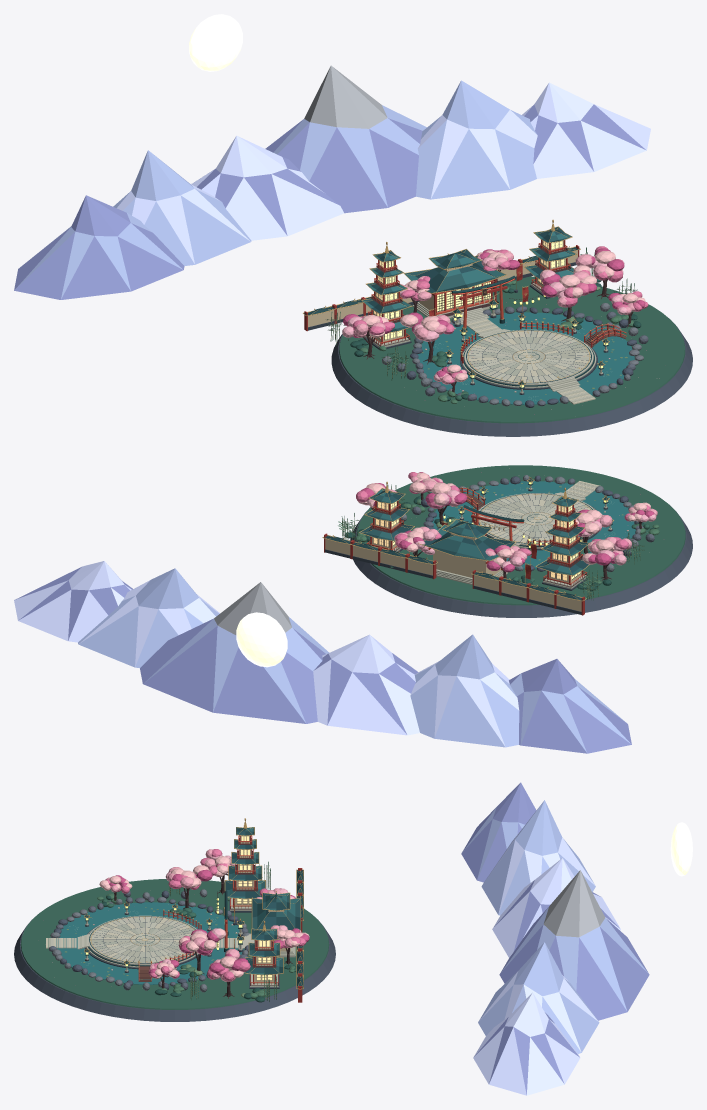
Rendered from sakura-sanctuary.glb.
3 views of the same model, one above another, from view 1: azimuth 30°, elevation 25°; view 2: azimuth 150°, elevation 25°; view 3: azimuth 270°, elevation 25° (orthographic). The views are drawn at different scales.
Visible parts, largest first — view 1: Horizon | faceted mountain silhouettes, Garden island | faceted foundation, Arena | cut limestone, concentric inlays and crest, Jade reflecting pool, Honden | illuminated temple hall, Garden banks | moss and river stones, Pagoda | 5 tiers, Moon | dusk pearl, Courtyard walls | plaster and tile, Pagoda | 3 tiers, Sakura | sculpted canopy 2, Sakura | sculpted canopy 1 (+8 smaller); view 2: Horizon | faceted mountain silhouettes, Garden island | faceted foundation, Courtyard walls | plaster and tile, Honden | illuminated temple hall, Arena | cut limestone, concentric inlays and crest, Jade reflecting pool, Pagoda | 5 tiers, Garden banks | moss and river stones, Moon | dusk pearl, Pagoda | 3 tiers, Sakura | sculpted canopy 2, Sakura | sculpted canopy 3 (+6 smaller); view 3: Horizon | faceted mountain silhouettes, Garden island | faceted foundation, Jade reflecting pool, Arena | cut limestone, concentric inlays and crest, Garden banks | moss and river stones, Pagoda | 5 tiers, Honden | illuminated temple hall, Pagoda | 3 tiers, Sakura | sculpted canopy 4, Sakura | sculpted canopy 2, Moon | dusk pearl, Sakura | sculpted canopy 1 (+6 smaller).
Boxes of the visible parts, bbox=[...] form: Horizon | faceted mountain silhouettes: bbox=[14, 65, 650, 299]; Garden island | faceted foundation: bbox=[331, 276, 692, 436]; Arena | cut limestone, concentric inlays and crest: bbox=[460, 329, 597, 389]; Jade reflecting pool: bbox=[417, 312, 634, 404]; Honden | illuminated temple hall: bbox=[404, 249, 506, 324]; Garden banks | moss and river stones: bbox=[350, 276, 643, 407]; Pagoda | 5 tiers: bbox=[360, 242, 412, 350]; Moon | dusk pearl: bbox=[189, 14, 242, 71]; Courtyard walls | plaster and tile: bbox=[303, 245, 580, 331]; Pagoda | 3 tiers: bbox=[524, 219, 576, 298]; Sakura | sculpted canopy 2: bbox=[540, 265, 596, 321]; Sakura | sculpted canopy 1: bbox=[400, 312, 454, 364]; Horizon | faceted mountain silhouettes: bbox=[14, 561, 631, 753]; Garden island | faceted foundation: bbox=[350, 465, 692, 617]; Courtyard walls | plaster and tile: bbox=[322, 533, 586, 615]; Honden | illuminated temple hall: bbox=[418, 518, 515, 584]; Arena | cut limestone, concentric inlays and crest: bbox=[471, 493, 598, 550]; Jade reflecting pool: bbox=[432, 481, 635, 568]; Pagoda | 5 tiers: bbox=[535, 487, 589, 590]; Garden banks | moss and river stones: bbox=[344, 475, 659, 591]; Moon | dusk pearl: bbox=[236, 612, 287, 667]; Pagoda | 3 tiers: bbox=[359, 481, 414, 552]; Sakura | sculpted canopy 2: bbox=[410, 479, 467, 528]; Sakura | sculpted canopy 3: bbox=[582, 537, 631, 580]; Horizon | faceted mountain silhouettes: bbox=[461, 782, 649, 1095]; Garden island | faceted foundation: bbox=[14, 879, 335, 1021]; Jade reflecting pool: bbox=[56, 902, 244, 984]; Arena | cut limestone, concentric inlays and crest: bbox=[85, 915, 198, 969]; Garden banks | moss and river stones: bbox=[49, 893, 296, 1002]; Pagoda | 5 tiers: bbox=[224, 818, 265, 912]; Honden | illuminated temple hall: bbox=[241, 891, 300, 957]; Pagoda | 3 tiers: bbox=[245, 920, 283, 988]; Sakura | sculpted canopy 4: bbox=[207, 949, 250, 998]; Sakura | sculpted canopy 2: bbox=[178, 928, 226, 974]; Moon | dusk pearl: bbox=[670, 822, 692, 876]; Sakura | sculpted canopy 1: bbox=[165, 865, 212, 911].
Size of what is drawn, in the model's own units: 111 by 23.04 by 114.
